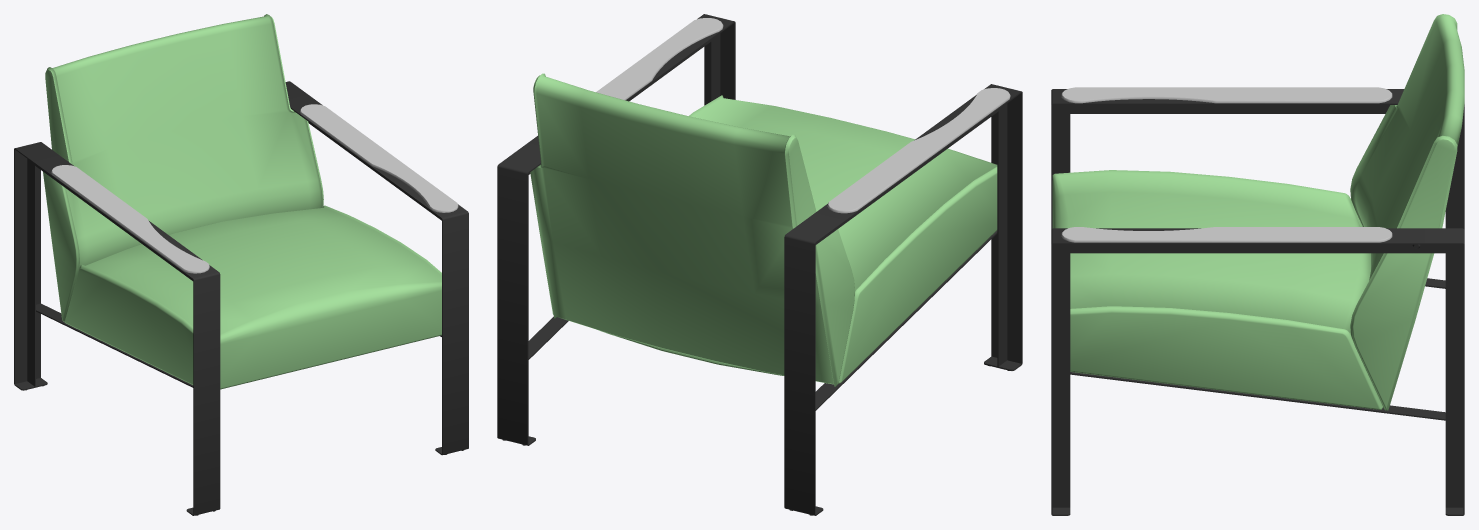
File: MZACH05X.FBX
The picture shows the model from 3 angles, left to right: view 1: azimuth 30°, elevation 25°; view 2: azimuth 150°, elevation 25°; view 3: azimuth 270°, elevation 25°; orthographic projection. The views are drawn at different scales.
Visible parts, largest first — view 1: MZACH05X; view 2: MZACH05X; view 3: MZACH05X.
Part boxes in pixels (x1,y1,x2,y2): MZACH05X: [14, 14, 468, 515]; MZACH05X: [497, 14, 1022, 515]; MZACH05X: [1051, 14, 1464, 515].
Bounding box in the file's own units: 73 × 82.7 × 80.5.
